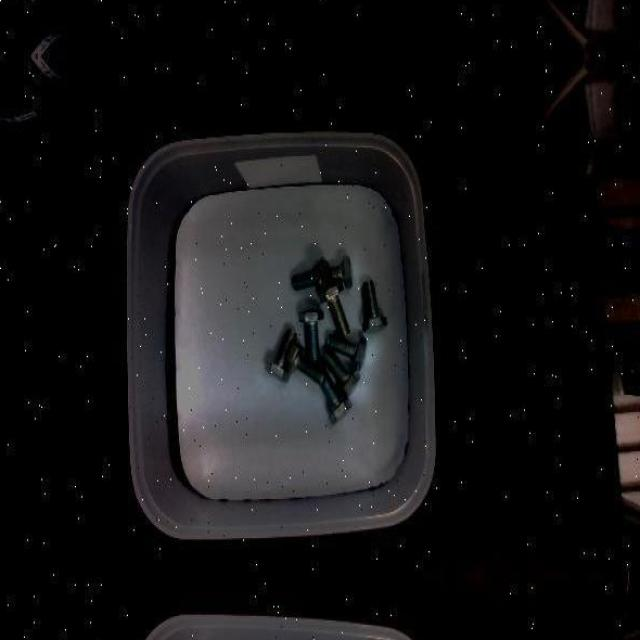screw: (321, 350, 361, 400), (284, 343, 327, 386), (265, 326, 297, 382), (319, 282, 350, 338), (326, 333, 366, 369), (292, 258, 332, 293), (362, 279, 388, 332)
